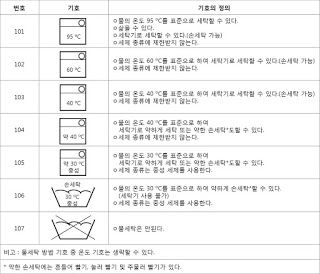do_not_wash: (50, 215, 95, 241)
